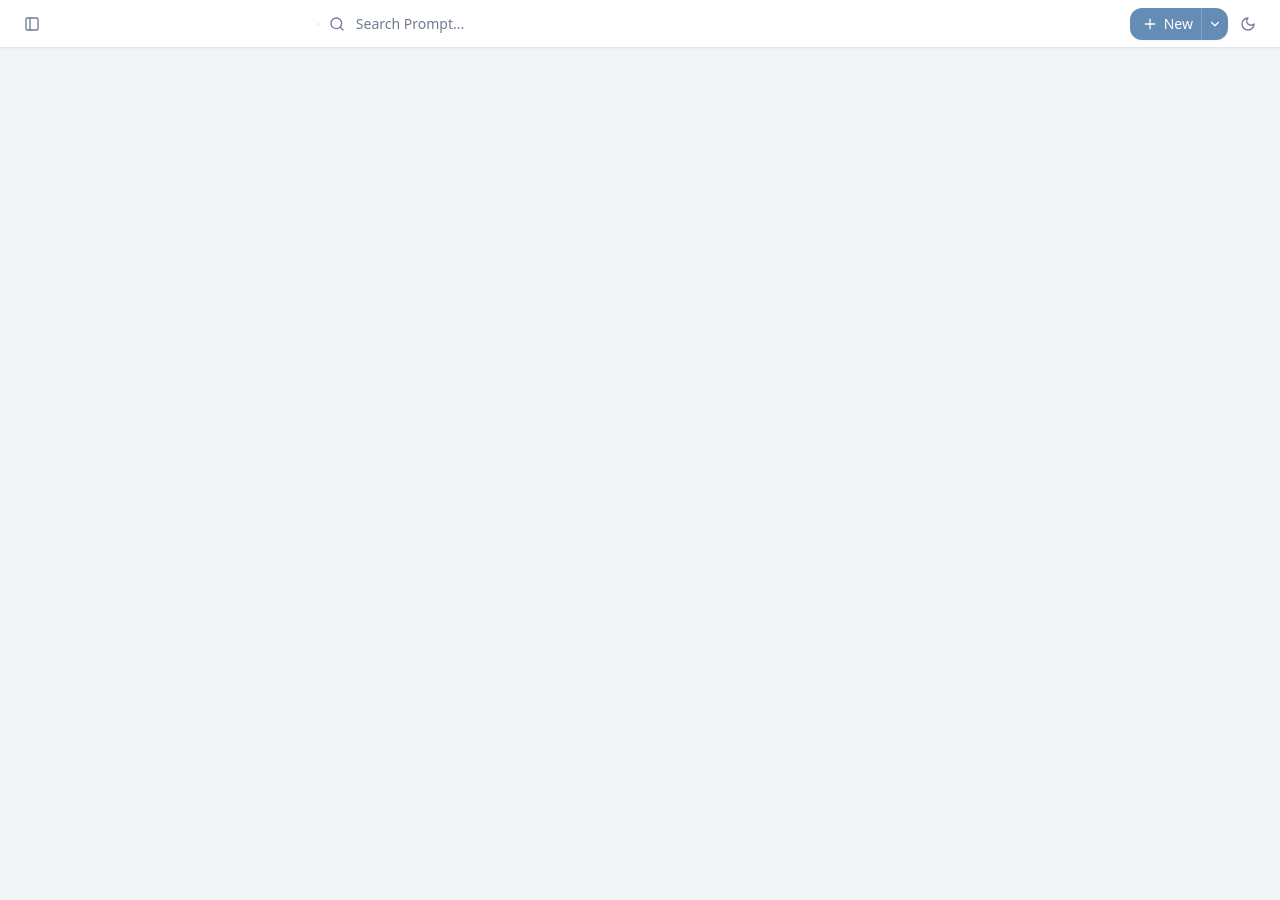
Test: TopBar › attaches the create-menu outside-click listener only while open
Click the button named "Creation mode" at {"x": 1215, "y": 24}, box [1202,8,1228,40]
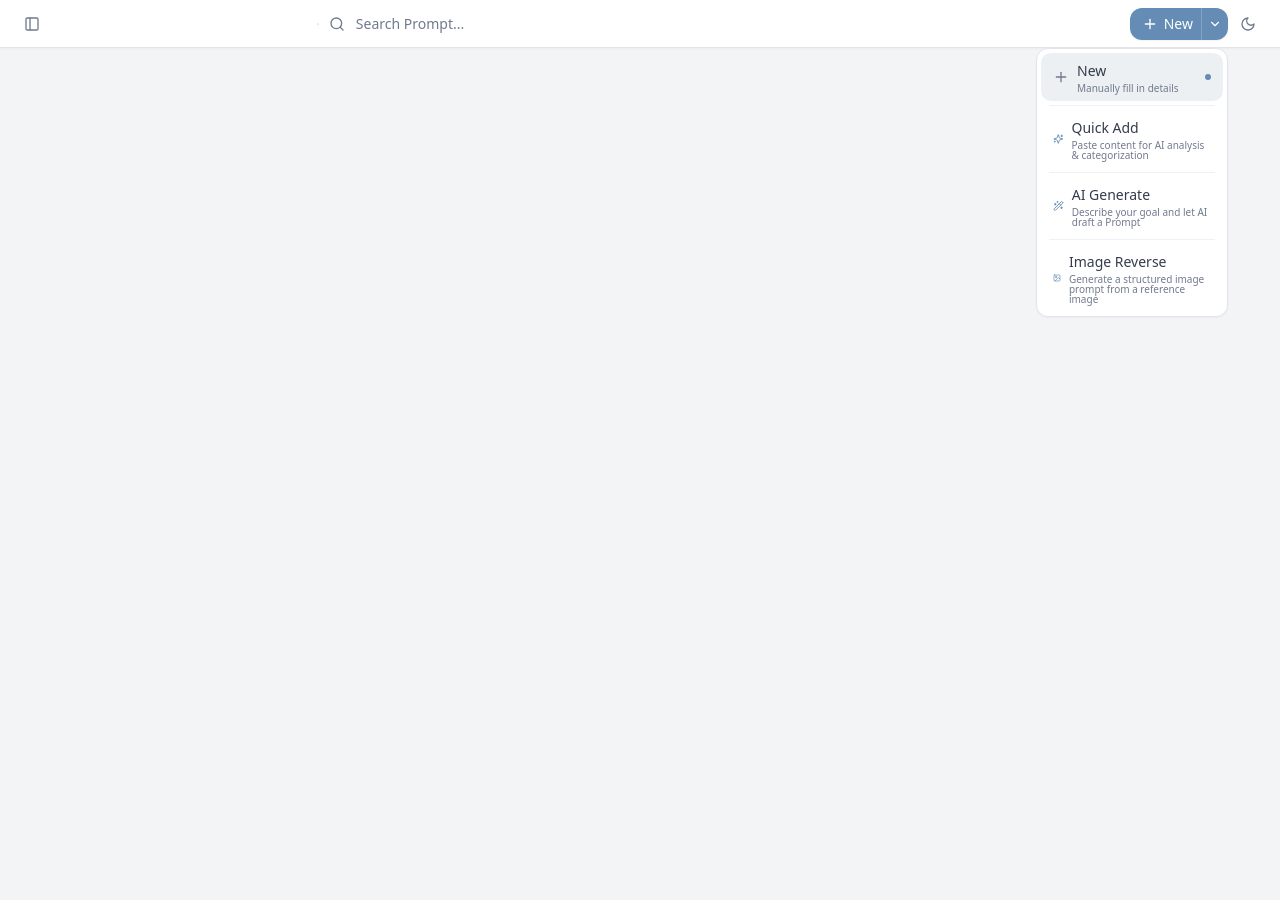
Press the mouse on the element that starts with "New" at {"x": 640, "y": 450}, box [0,0,1279,899]
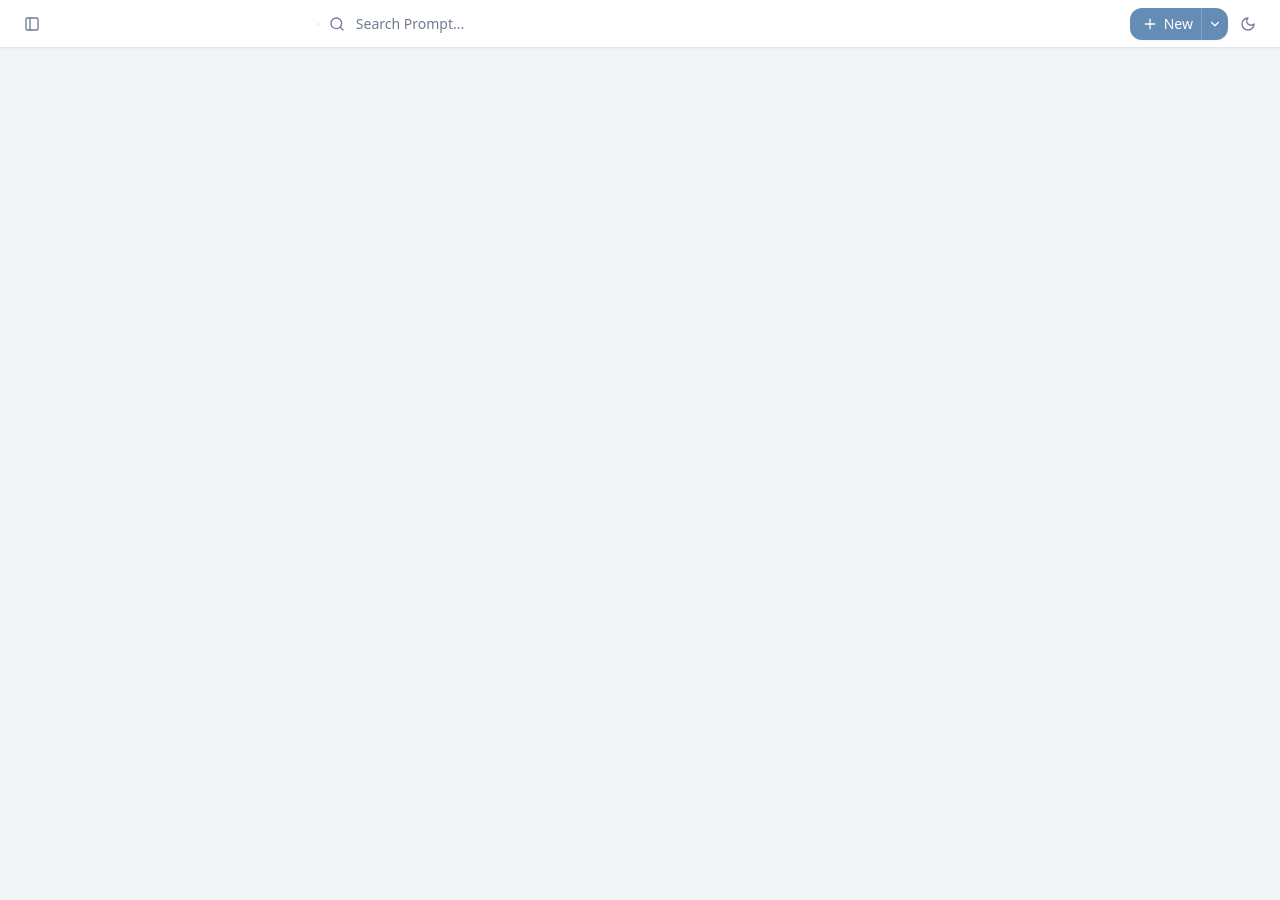
Check: the menu is gone
